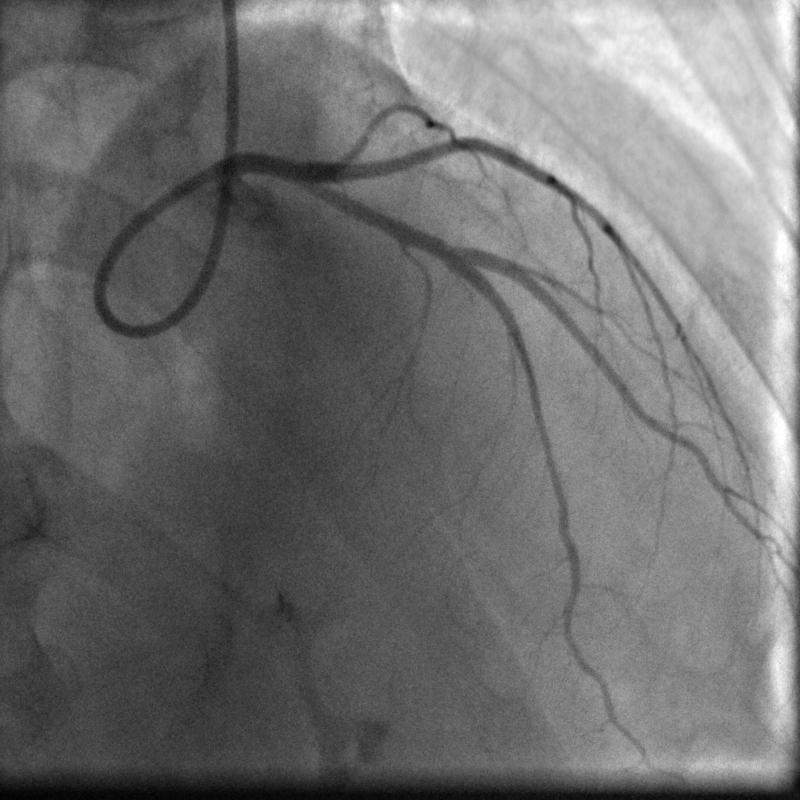Stenosis: (433, 234, 455, 265)
